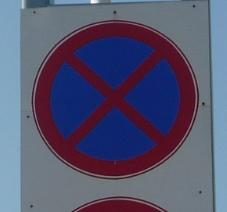No Parking: (35, 21, 200, 178)
